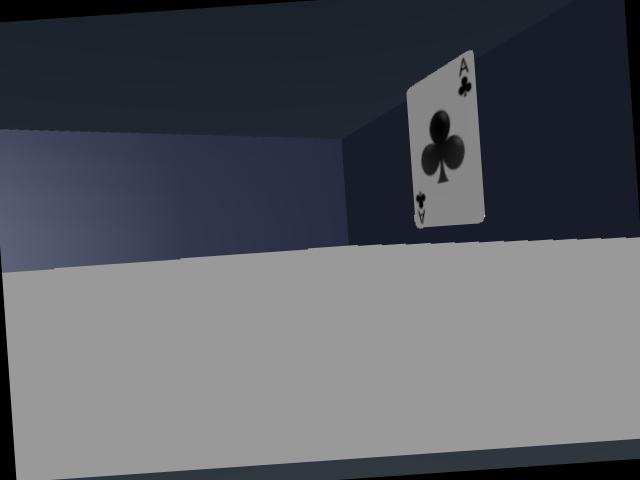club: (406, 51, 484, 227)
